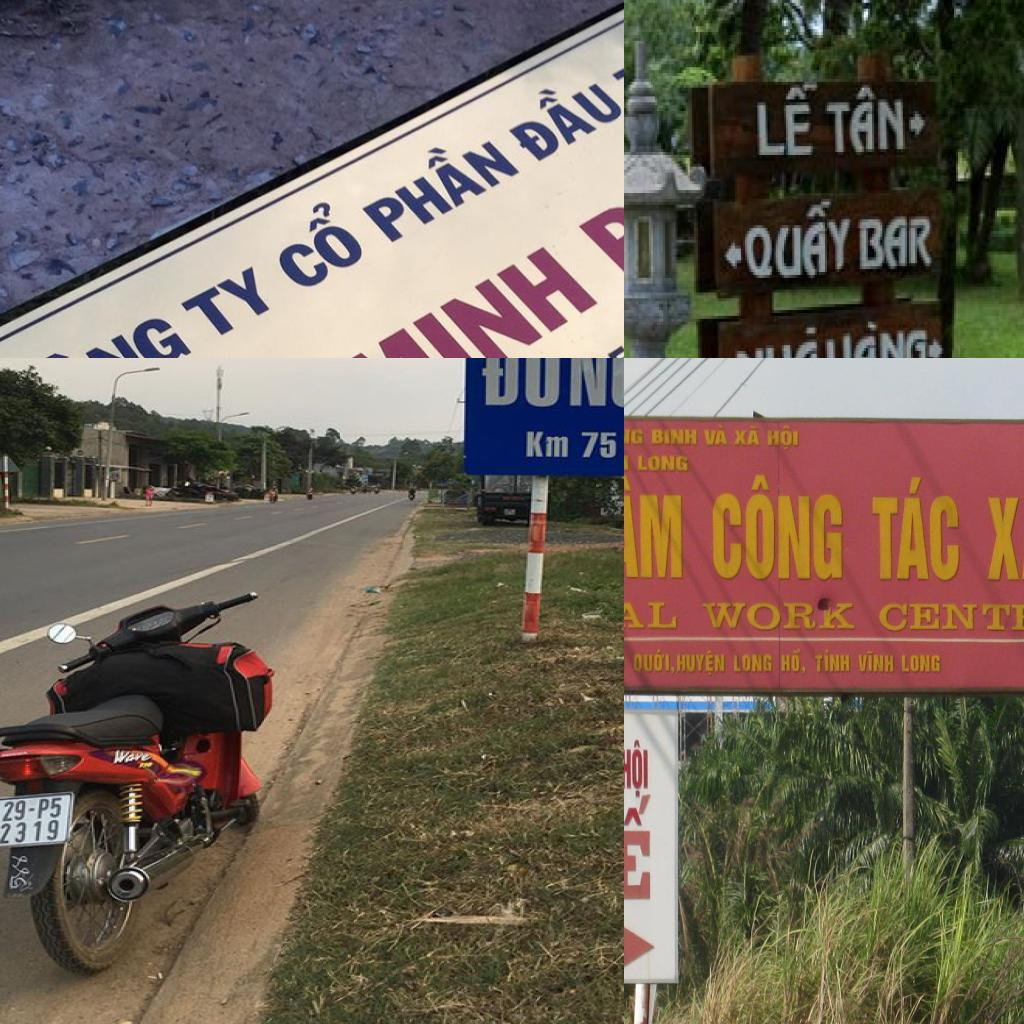text: (333, 247, 599, 358), (346, 124, 520, 246), (708, 472, 843, 580), (486, 67, 624, 168), (258, 197, 372, 296), (739, 193, 854, 290), (563, 102, 624, 284), (0, 302, 194, 358), (866, 476, 960, 588), (494, 294, 624, 358), (475, 358, 624, 410), (180, 264, 274, 346), (827, 76, 909, 164), (624, 475, 685, 582), (753, 82, 825, 164), (860, 202, 936, 278), (822, 307, 931, 358), (698, 601, 856, 633), (875, 601, 1024, 631), (984, 478, 1024, 584), (731, 315, 825, 358), (624, 792, 654, 908), (624, 596, 679, 633), (0, 817, 64, 846), (520, 428, 574, 461), (0, 795, 64, 822), (624, 735, 648, 797), (576, 430, 621, 462), (676, 652, 726, 680), (731, 652, 774, 680), (636, 452, 688, 474), (6, 852, 33, 892), (812, 649, 851, 676), (766, 424, 800, 454), (855, 650, 896, 674), (632, 652, 676, 674), (898, 652, 942, 674), (650, 428, 699, 447), (780, 647, 808, 679), (109, 749, 157, 767), (733, 425, 760, 450), (702, 424, 728, 448), (624, 425, 644, 447)
